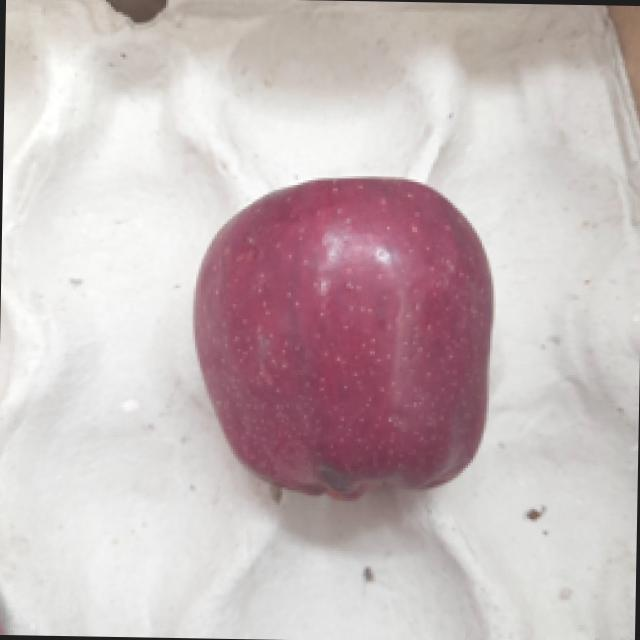Fresh_Apple: (184, 162, 504, 512)
